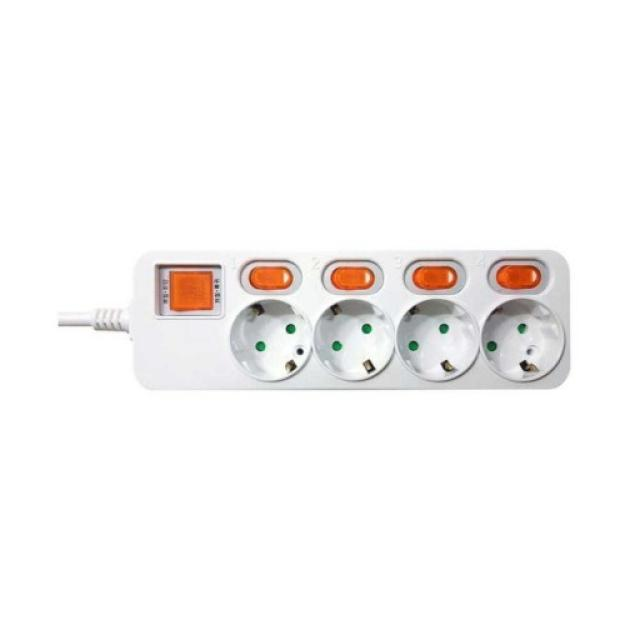typeb: (102, 213, 581, 447)
